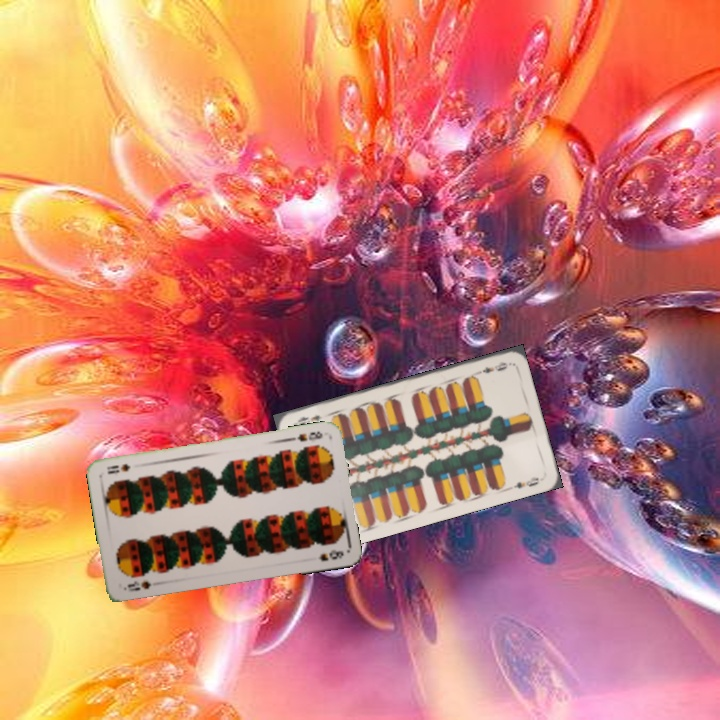E9: (472, 357, 511, 377)
S8: (293, 427, 325, 445), (123, 577, 153, 594)
